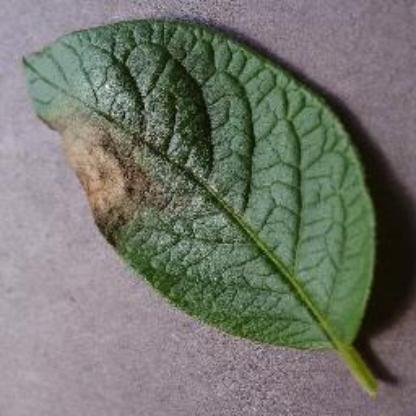Late-Blight: (19, 18, 399, 398)
